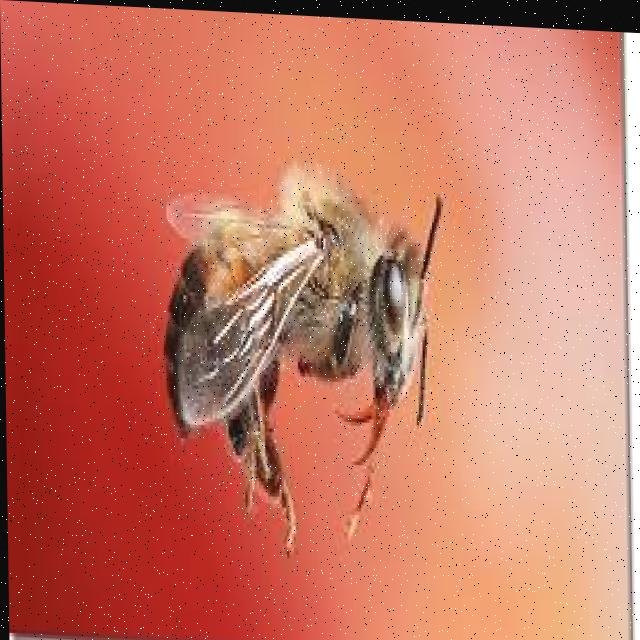Apis-mellifera-scutellata: (142, 138, 465, 569)
